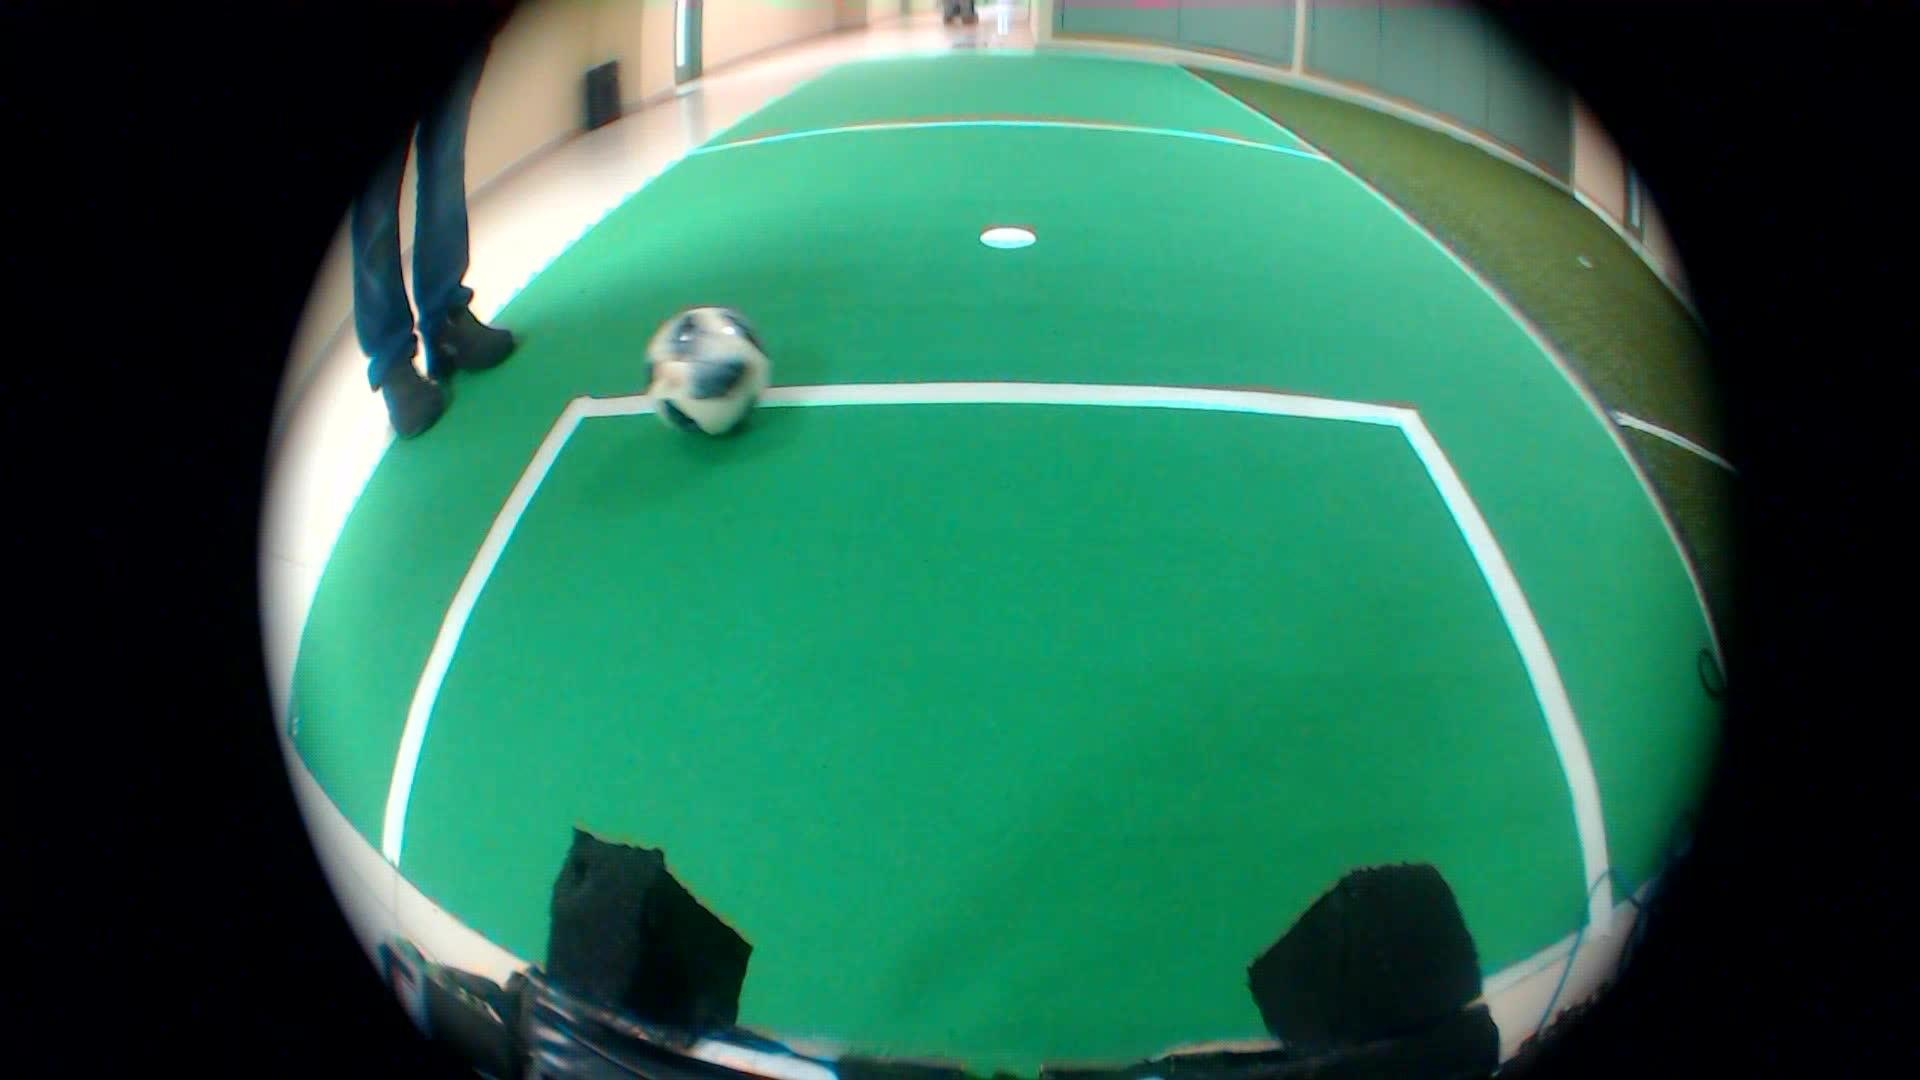ball: (624, 289, 782, 442)
